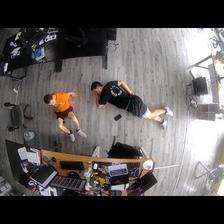fall: (89, 79, 173, 126), (45, 90, 86, 140)
